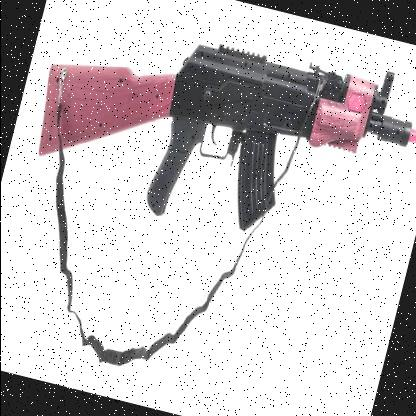rifle: (17, 0, 416, 274)
